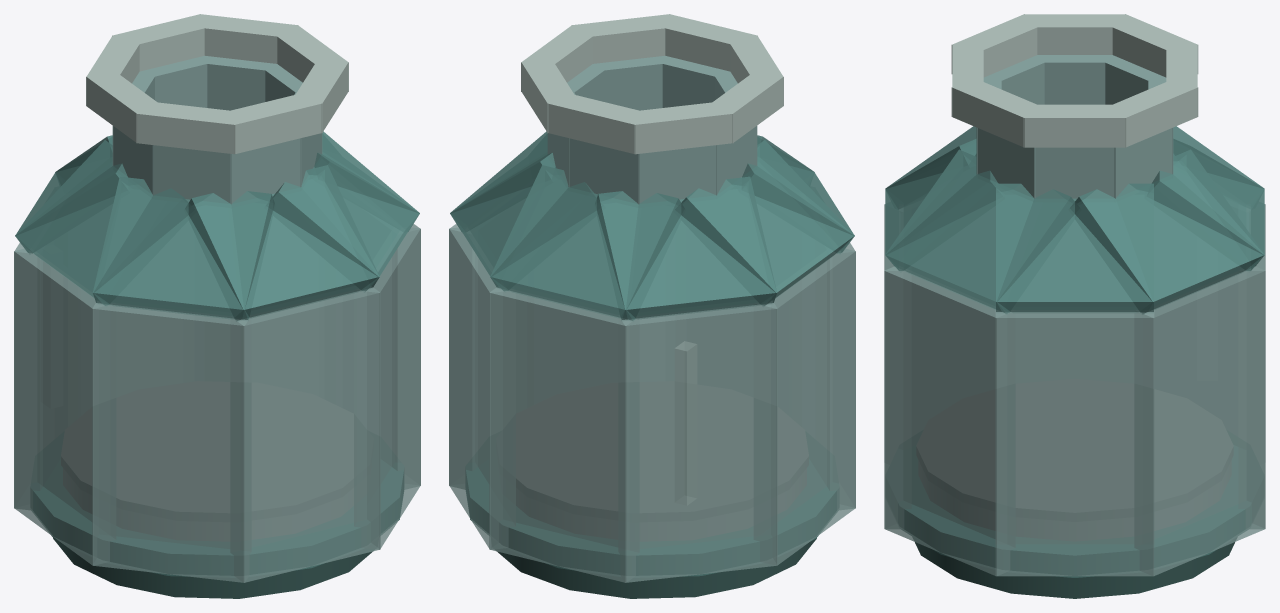
File: CMU3DBottleFill1StudyCloud.glb
3 views of the same model, side by side, from view 1: azimuth 30°, elevation 25°; view 2: azimuth 150°, elevation 25°; view 3: azimuth 270°, elevation 25° (orthographic).
Visible parts, largest first — view 1: hollow bottle wall 06, hollow bottle wall 07, flat liquid meniscus, hollow bottle wall 05, inward glass shoulder 06, inward glass shoulder 07, hollow bottle wall 08, inward glass shoulder 05, bottom glass welt, inward glass shoulder 08, hollow bottle wall 01, hollow bottle wall 04 (+22 smaller); view 2: hollow bottle wall 04, hollow bottle wall 03, hollow bottle wall 05, flat liquid meniscus, inward glass shoulder 04, inward glass shoulder 03, hollow bottle wall 02, inward glass shoulder 05, bottom glass welt, inward glass shoulder 02, hollow bottle wall 01, hollow bottle wall 06 (+23 smaller); view 3: hollow bottle wall 01, hollow bottle wall 02, hollow bottle wall 08, flat liquid meniscus, inward glass shoulder 01, inward glass shoulder 02, inward glass shoulder 08, bottom glass welt, hollow bottle wall 06, inward glass shoulder 03, inward glass shoulder 07, hollow bottle wall 05 (+21 smaller).
Boxes of the visible parts, x1,y1,x2,y2 form: hollow bottle wall 06: (92,303,251,582); hollow bottle wall 07: (230,287,380,582); flat liquid meniscus: (61,381,353,521); hollow bottle wall 05: (14,248,115,565); inward glass shoulder 06: (92,176,274,320); inward glass shoulder 07: (185,165,379,321); hollow bottle wall 08: (354,228,420,549); inward glass shoulder 05: (15,140,194,306); bottom glass welt: (31,459,403,577); inward glass shoulder 08: (266,131,419,292); hollow bottle wall 01: (343,224,420,489); hollow bottle wall 04: (14,243,53,510); hollow bottle wall 04: (618,302,777,582); hollow bottle wall 03: (489,287,639,582); hollow bottle wall 05: (754,248,855,565); flat liquid meniscus: (516,381,808,521); inward glass shoulder 04: (595,176,777,320); inward glass shoulder 03: (490,165,684,321); hollow bottle wall 02: (449,228,515,549); inward glass shoulder 05: (675,140,854,306); bottom glass welt: (466,459,838,577); inward glass shoulder 02: (450,131,603,292); hollow bottle wall 01: (449,224,526,489); hollow bottle wall 06: (816,243,855,510); hollow bottle wall 01: (995,310,1154,576); hollow bottle wall 02: (1134,266,1265,576); hollow bottle wall 08: (884,266,1015,576); flat liquid meniscus: (917,379,1232,521); inward glass shoulder 01: (996,183,1153,312); inward glass shoulder 02: (1070,149,1264,314); inward glass shoulder 08: (885,149,1079,314); bottom glass welt: (898,445,1251,577); hollow bottle wall 06: (884,204,994,435); inward glass shoulder 03: (1147,126,1264,271); inward glass shoulder 07: (885,126,1002,271); hollow bottle wall 05: (1016,314,1133,382).
Bounding box in the file's own units: 0.3387 × 0.453 × 0.3387.
